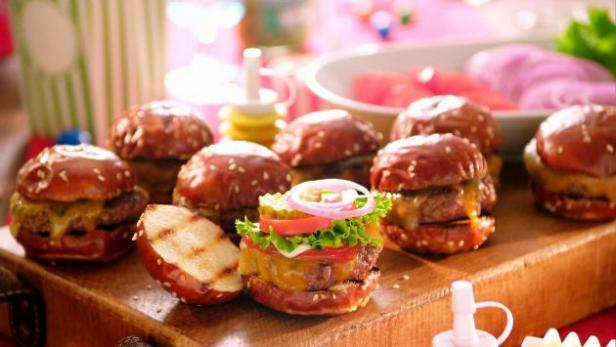hamburger: (5, 137, 146, 266), (243, 185, 383, 313), (376, 142, 495, 273), (107, 108, 218, 201), (523, 110, 616, 219), (271, 112, 381, 189), (177, 155, 291, 218), (391, 102, 507, 158)
